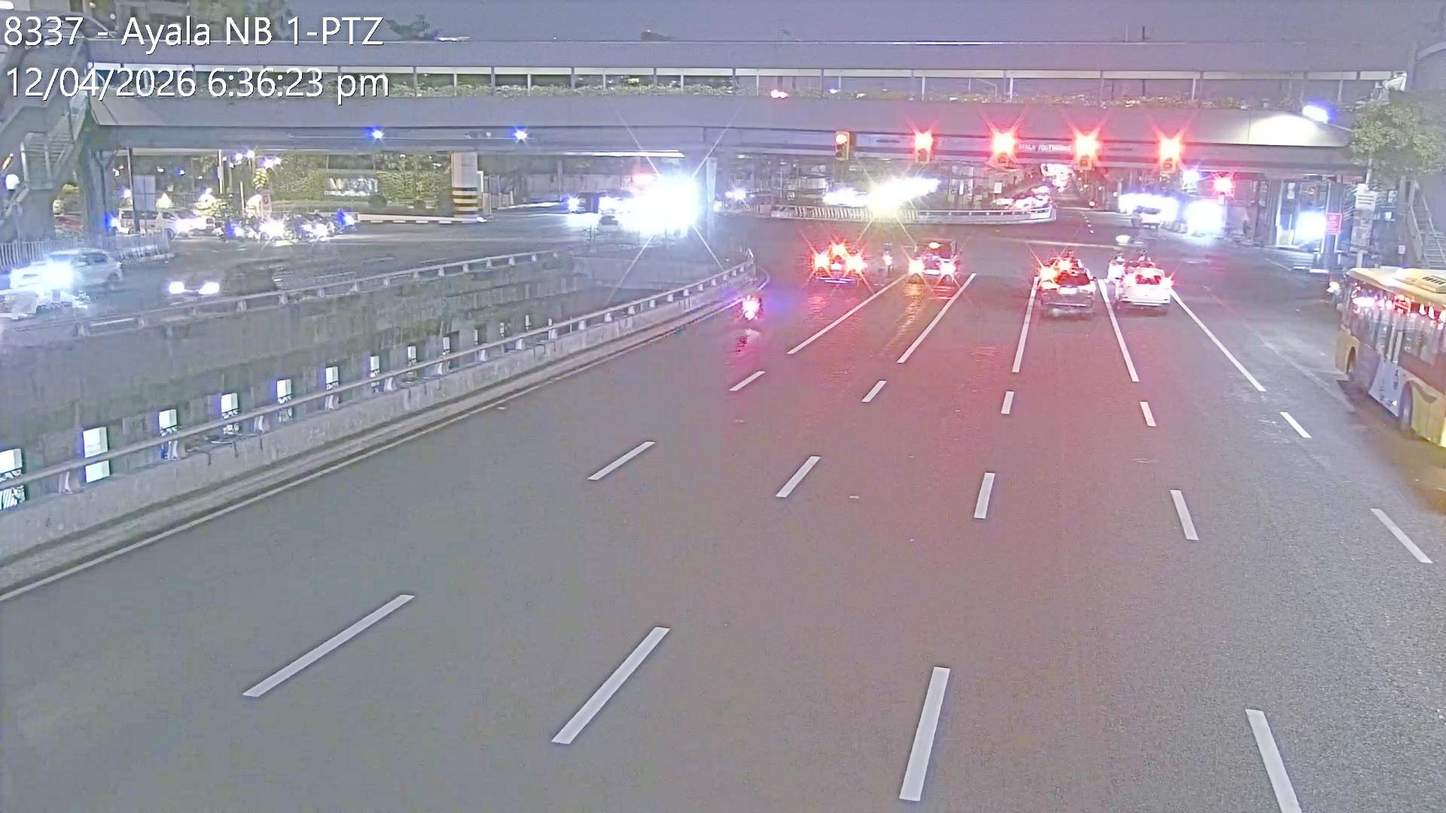Car: (8, 248, 128, 304), (1255, 244, 1333, 298), (165, 268, 279, 303), (1038, 263, 1098, 323), (1116, 263, 1174, 314), (114, 209, 199, 239), (810, 239, 865, 283), (911, 236, 955, 283), (560, 188, 605, 214), (1036, 254, 1084, 274), (1132, 207, 1163, 231), (104, 210, 133, 235), (304, 211, 334, 233)
Motor: (742, 275, 768, 332), (223, 218, 247, 243), (1109, 250, 1127, 282), (336, 209, 359, 233), (879, 242, 895, 274)
Not Accident: (1031, 247, 1101, 323), (1106, 244, 1178, 313)
